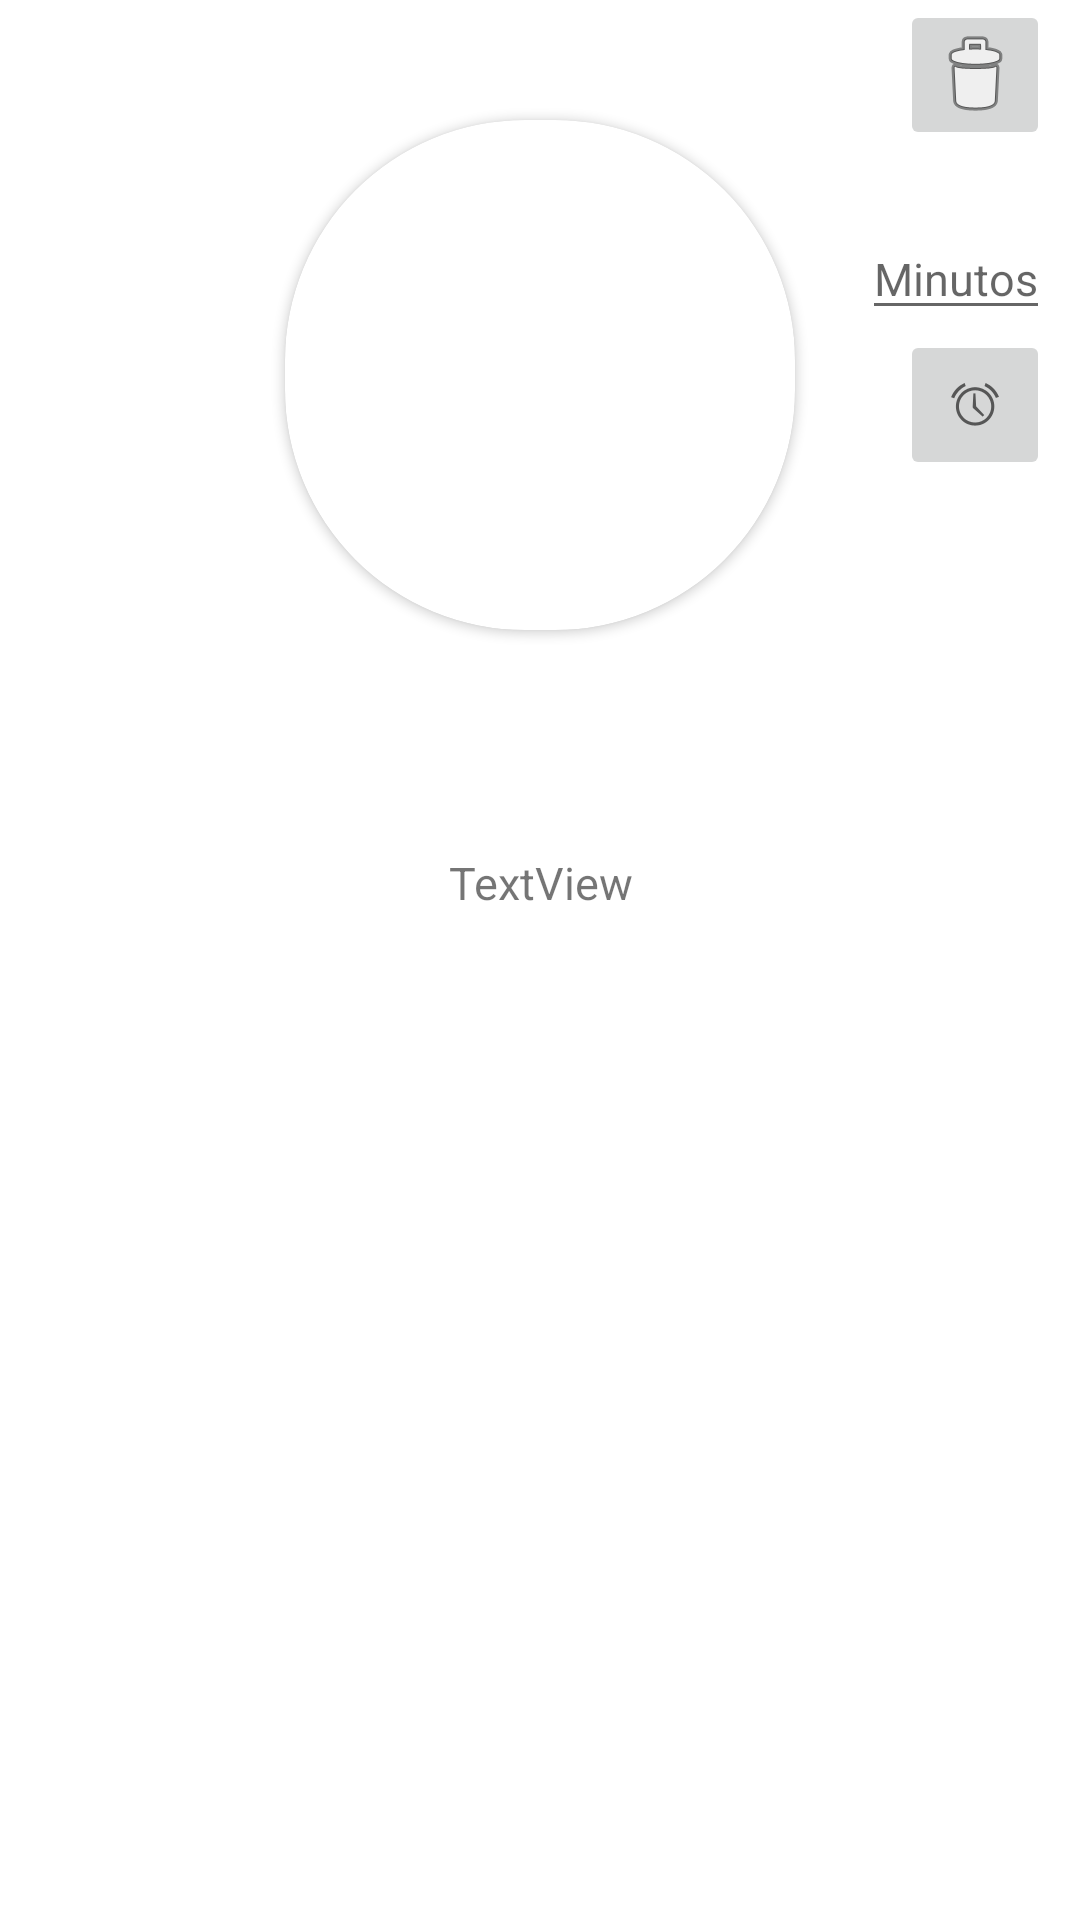

Named icons in this screenshot (1080*1920) and their bounding boxes, [x1=x1, y1=y1, x2=x2, y2=y2]:
delete: [x1=912, y1=18, x2=1038, y2=132]
lock idle alarm: [x1=912, y1=348, x2=1038, y2=462]
